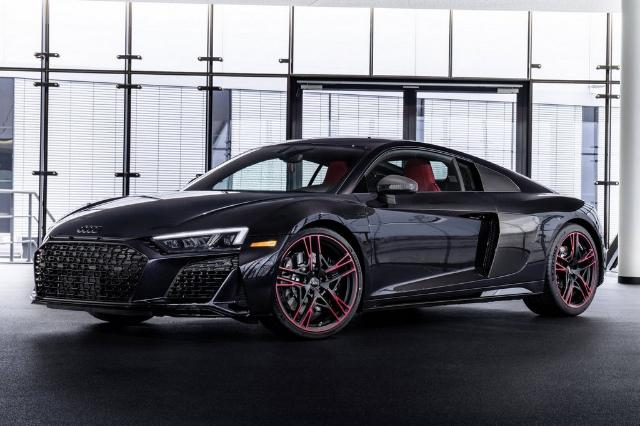audi: (29, 138, 608, 340)
